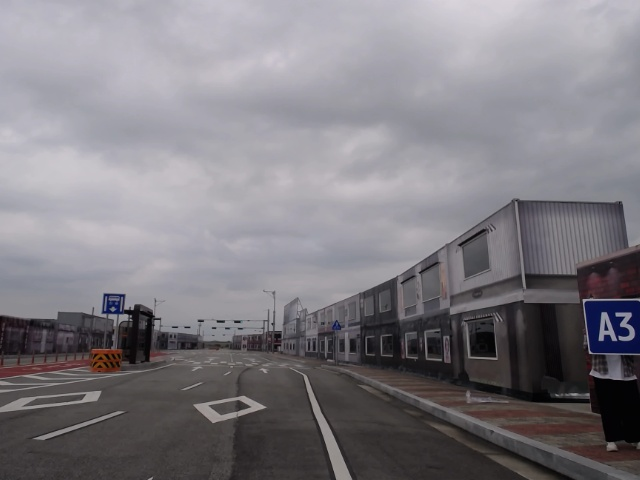delivery_a3: (583, 299, 639, 355)
